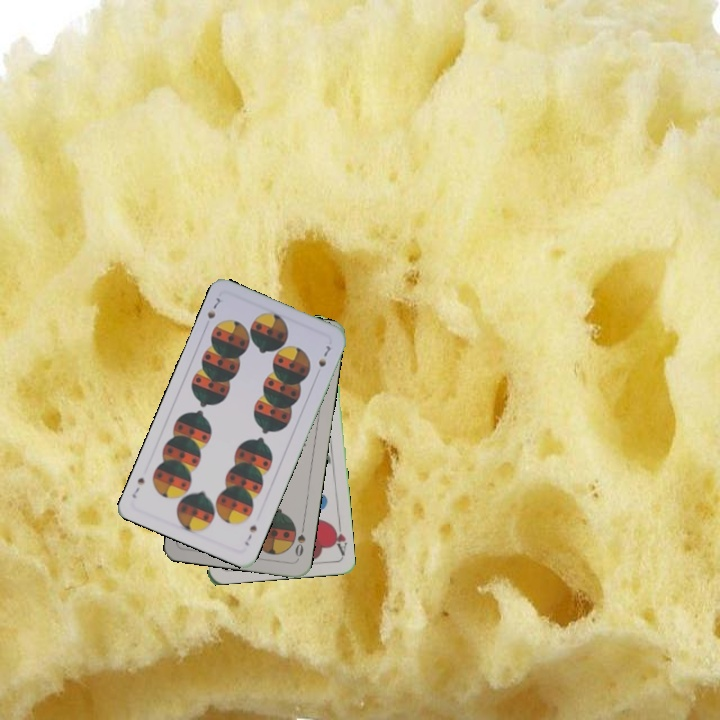HA: (328, 518, 349, 558)
S7: (203, 293, 226, 321), (241, 521, 259, 548)
SO: (291, 521, 308, 562)
